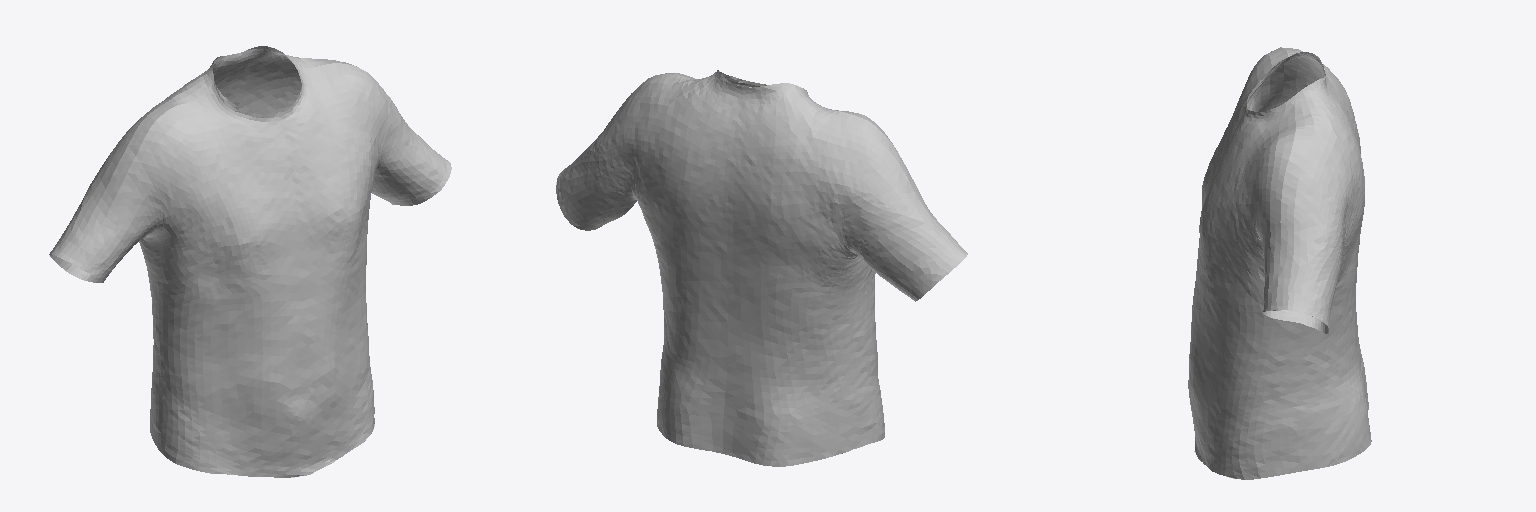
Rendered from t-shirt_pqmW98wYWMelFQa7OXSmzj3ZgJJ2.obj.
3 views of the same model, side by side, from view 1: azimuth 30°, elevation 25°; view 2: azimuth 150°, elevation 25°; view 3: azimuth 270°, elevation 25° (orthographic).
Size of the model in its own units: 0.724 by 0.6621 by 0.2889.